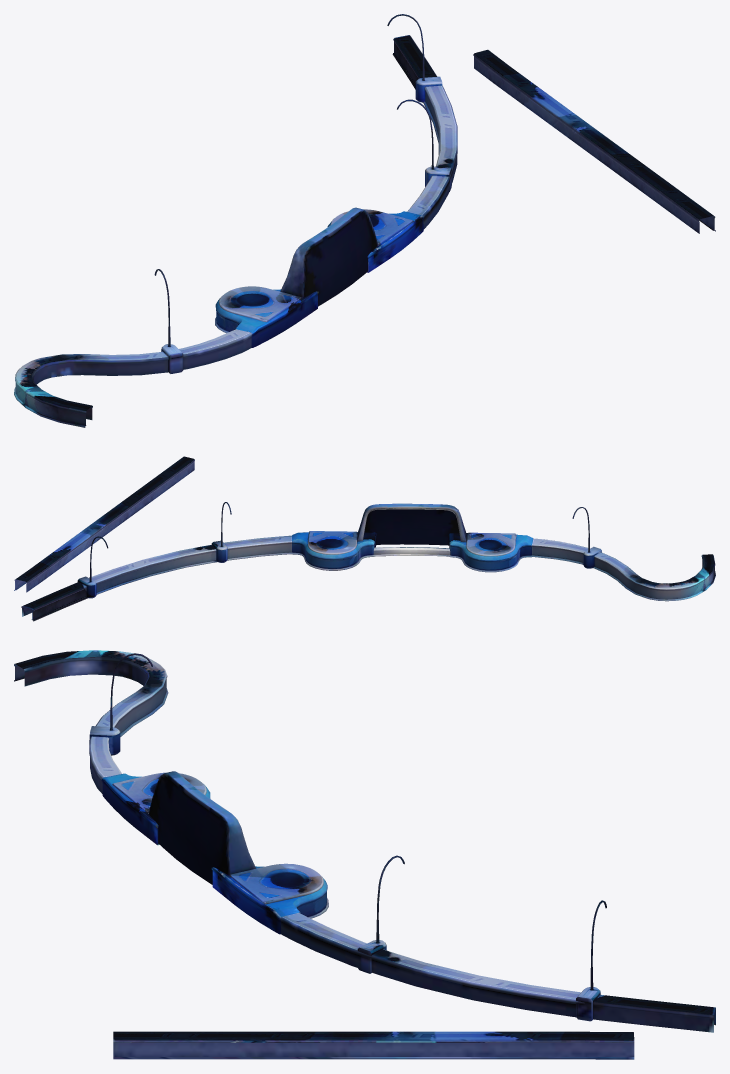
Rendered from pref_sm_4v4beachtech_bk_WSJ_topblock_L01a_lv0.fbx.
The picture shows the model from 3 angles, top to bottom: view 1: azimuth 30°, elevation 25°; view 2: azimuth 150°, elevation 25°; view 3: azimuth 270°, elevation 25°; orthographic projection. The views are drawn at different scales.
Visible parts, largest first — view 1: sm_4v4beachtech_WSJ_bk_topblock_L01a_lv0; view 2: sm_4v4beachtech_WSJ_bk_topblock_L01a_lv0; view 3: sm_4v4beachtech_WSJ_bk_topblock_L01a_lv0.
Part boxes in pixels (bbox=[...]): sm_4v4beachtech_WSJ_bk_topblock_L01a_lv0: bbox=[14, 14, 715, 427]; sm_4v4beachtech_WSJ_bk_topblock_L01a_lv0: bbox=[14, 456, 715, 621]; sm_4v4beachtech_WSJ_bk_topblock_L01a_lv0: bbox=[14, 650, 715, 1059].
Size of the model in its own units: 42.31 by 5.06 by 32.04.
